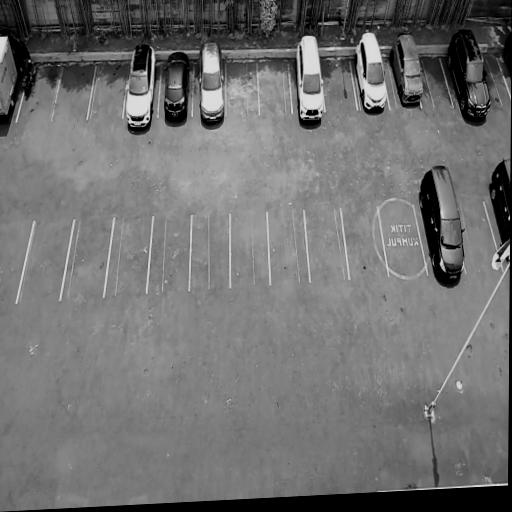Car: (413, 152, 470, 289), (442, 24, 494, 125), (386, 25, 427, 111), (351, 29, 391, 116), (123, 40, 159, 134), (293, 31, 326, 128), (487, 151, 510, 271), (0, 24, 26, 127), (198, 39, 227, 128), (162, 47, 192, 126)
Space Available: (17, 217, 74, 303), (60, 217, 114, 300), (377, 203, 429, 278), (104, 215, 153, 294), (147, 213, 192, 292), (457, 199, 504, 274), (341, 204, 387, 279), (305, 206, 349, 281), (267, 208, 311, 283), (190, 211, 231, 289), (230, 209, 270, 285), (53, 63, 96, 120), (88, 60, 129, 118), (321, 55, 358, 115), (418, 53, 455, 109), (257, 58, 293, 115), (227, 58, 259, 116), (482, 52, 511, 107)
